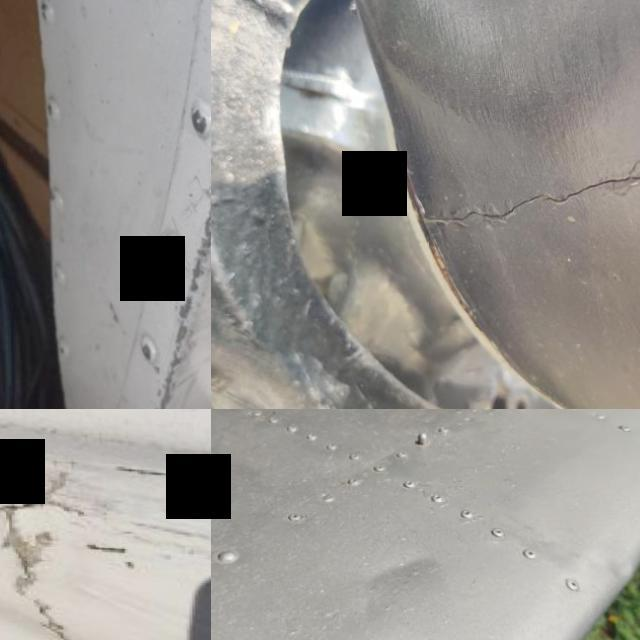Crack: (90, 0, 211, 409), (407, 98, 640, 283), (0, 465, 87, 591), (28, 589, 78, 640), (120, 459, 174, 474), (83, 536, 132, 552)
Dent: (333, 514, 464, 626), (577, 522, 640, 610)
